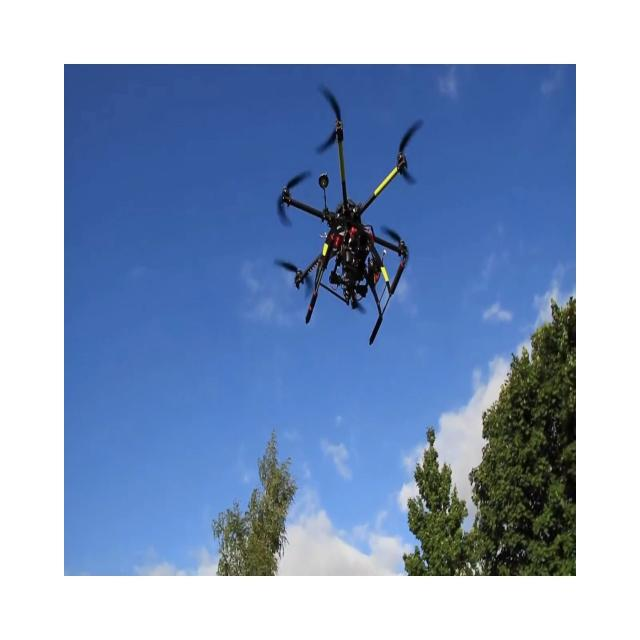drone: (274, 83, 424, 346)
